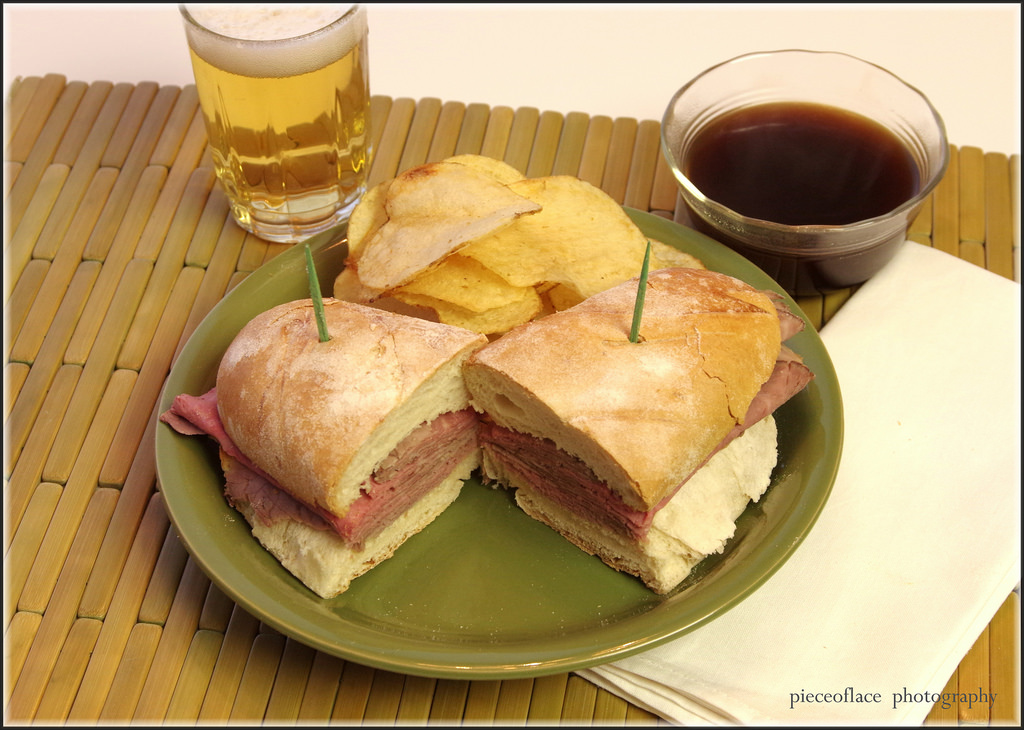slice of bread: (474, 277, 821, 502), (211, 301, 475, 499)
